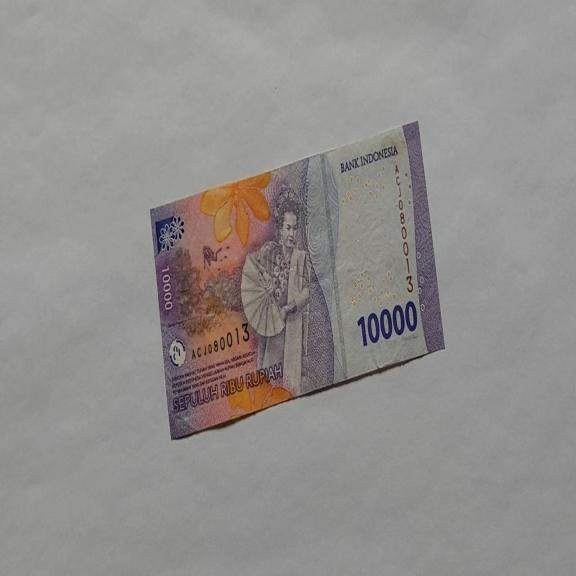Kertas: (149, 118, 445, 440), (356, 299, 418, 347)
